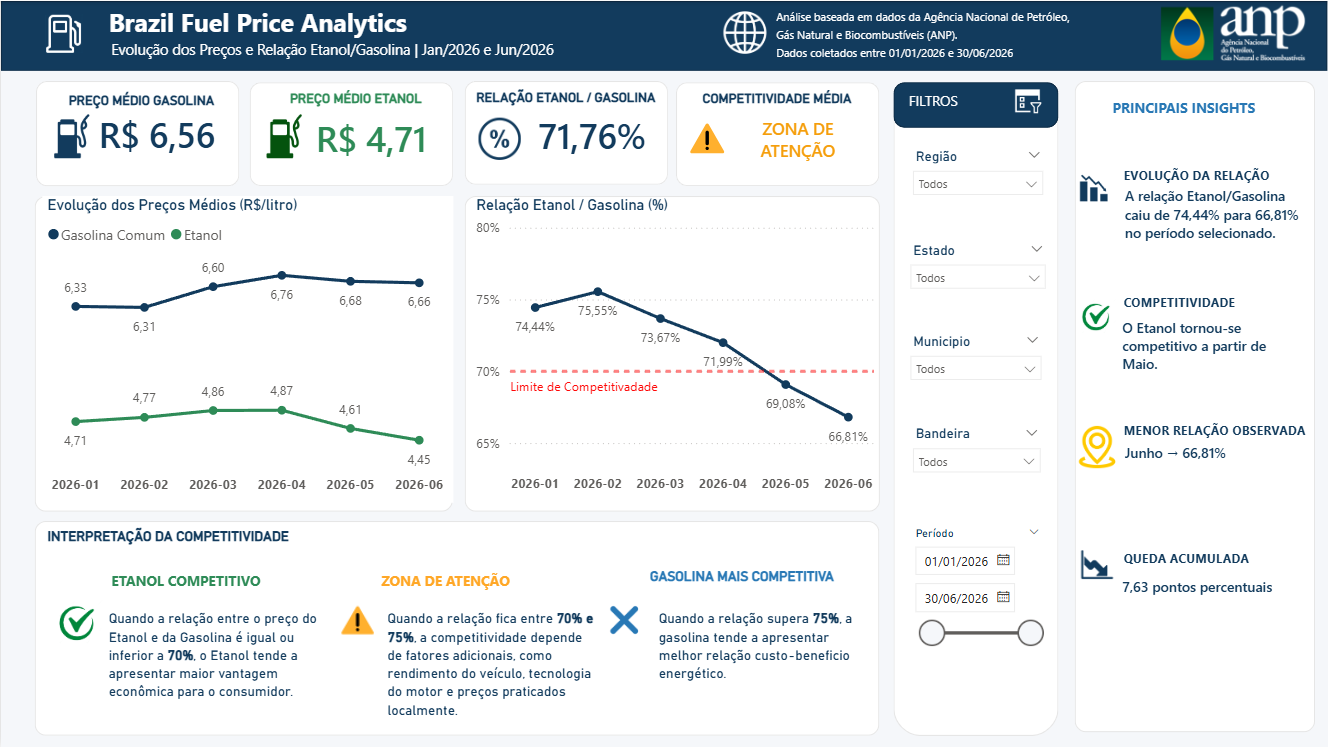

The dashboard page shown, as its layout file describes it:
{"tool":"powerbi","page":{"name":"Gasolina x Etanol","canvas":[1280,720],"ordinal":2},"visuals":[{"type":"shape","box":[0,0,1280,67.5],"z":0},{"type":"image","box":[12.2,13.5,96.6,36.7],"z":1000},{"type":"textbox","box":[98.8,0,413.8,61.2],"z":2000},{"type":"textbox","box":[101.2,32.5,455,35],"z":3000},{"type":"textbox","box":[743.8,0,310,70],"z":4000},{"type":"image","box":[1096.2,0,183.8,61.2],"z":5000},{"type":"image","box":[693.8,5,55,52.5],"z":6000},{"type":"shape","box":[861.8,81,159.2,628.5],"z":7000},{"type":"shape","box":[861.5,78.5,159.2,43.9],"z":8000},{"type":"textbox","box":[871.4,82.3,120.8,31.6],"z":9000},{"type":"image","box":[946.8,79.6,89.2,34.3],"z":10000},{"type":"slicer","fields":{"Values":["Fato Preços ANP.Região Nome"]},"box":[869.9,137.5,146,78.4],"z":11000},{"type":"slicer","fields":{"Values":["Fato Preços ANP.estado__sigla"]},"box":[867.2,227.8,150.9,89.2],"z":12000},{"type":"slicer","fields":{"Values":["Fato Preços ANP.municipio"]},"box":[867.2,315.6,146.8,89.2],"z":13000},{"type":"slicer","fields":{"Values":["Fato Preços ANP.bandeira"]},"box":[869.9,405.4,143.6,88.1],"z":14000},{"type":"slicer","fields":{"Values":["Calendario.Date"]},"box":[869.9,501.9,144.8,136.3],"z":15000},{"type":"shape","title":"Total de Revendas","box":[240.1,78.2,196.2,100.2],"z":16000},{"type":"cardVisual","title":"Preço Médio (Líquidos)","fields":{"Data":["Fato Preços ANP.Preço Médio Líquidos"]},"box":[66.2,77.5,167.5,105],"z":17000},{"type":"image","box":[35,105,43.4,50.7],"z":18000},{"type":"textbox","box":[68.6,85.1,161.9,38.4],"z":19000},{"type":"shape","title":"Total de Revendas","box":[34.3,76.8,196.2,101.5],"z":20000},{"type":"cardVisual","title":"Preço Médio (Líquidos)","fields":{"Data":["Fato Preços ANP.Preço Médio Gasolina"]},"box":[61.5,74.8,178.6,105],"z":21000},{"type":"cardVisual","title":"Preço Médio (Líquidos)","fields":{"Data":["Fato Preços ANP.Preço Médio Etanol"]},"box":[265.4,80.8,182.2,98.9],"z":22000},{"type":"textbox","box":[274.4,79.6,161.9,38.4],"z":23000},{"type":"textbox","box":[60.4,81,161.9,38.4],"z":24000},{"type":"shape","title":"Total de Revendas","box":[447,76.8,196.2,100.2],"z":25000},{"type":"shape","title":"Total de Revendas","box":[651.8,78.2,196.2,100.2],"z":26000},{"type":"shape","title":"Total de Revendas","box":[1036,76.8,231.9,628.5],"z":27000},{"type":"shape","title":"Total de Revendas","box":[32.9,188,403.4,304.6],"z":28000},{"type":"shape","title":"Total de Revendas","box":[447.3,188,400.7,304.6],"z":29000},{"type":"shape","title":"Total de Revendas","box":[32.9,502.2,815.1,207.2],"z":30000},{"type":"image","box":[252.5,105.7,42.5,49.4],"z":31000},{"type":"image","box":[46.7,105.7,42.5,49.4],"z":32000},{"type":"image","box":[461.1,111.1,41.2,43.9],"z":33000},{"type":"textbox","box":[1067.7,89.3,168.9,27.7],"z":34000},{"type":"textbox","box":[454.2,78.2,194.9,38.4],"z":35000},{"type":"textbox","box":[672.4,79.6,194.9,38.4],"z":36000},{"type":"textbox","box":[39.8,501.9,255.8,38.6],"z":37000},{"type":"cardVisual","title":"Preço Médio (Líquidos)","fields":{"Data":["Fato Preços ANP.Relação Etanol Gasolina %"]},"box":[481.6,75.5,178.4,104.3],"z":38000},{"type":"cardVisual","title":"Preço Médio (Líquidos)","fields":{"Data":["Fato Preços ANP.Competitividade Etanol"]},"box":[677.9,63.1,182.5,140],"z":39000},{"type":"lineChart","title":"Evolução dos Preços Médios (R$/litro)","fields":{"Y":["Fato Preços ANP.Preço Médio Gasolina","Fato Preços ANP.Preço Médio Etanol"],"Category":["Calendario.AnoMes"]},"box":[39.8,188,396.6,296.4],"z":40000},{"type":"lineChart","title":"Relação Etanol / Gasolina (%)","fields":{"Category":["Calendario.AnoMes"],"Y":["Fato Preços ANP.Relação Etanol Gasolina %"]},"box":[454.2,188,396.6,296.4],"z":41000},{"type":"cardVisual","title":"Preço Médio (Líquidos)","fields":{"Data":["Fato Preços ANP.Ícone Competitividade"]},"box":[629.8,85.1,102.9,85.1],"z":42000},{"type":"image","box":[1037.4,145.5,34.3,70],"z":43000},{"type":"image","box":[1036,270.3,41.2,70],"z":44000},{"type":"image","box":[1037.4,395.2,41.2,70],"z":45000},{"type":"image","box":[1037.4,509.1,41.2,70],"z":46000},{"type":"textbox","box":[1078.6,153.7,201.7,502.2],"z":47000},{"type":"cardVisual","fields":{"Data":["Fato Preços ANP.Insight Evolução Relação"]},"box":[1067.6,130.4,209.9,149.6],"z":48000},{"type":"cardVisual","fields":{"Data":["Fato Preços ANP.Insight Competitividade"]},"box":[1064.8,256.6,177,148.2],"z":49000},{"type":"cardVisual","fields":{"Data":["Fato Preços ANP.Insight Menor Relação"]},"box":[1067.6,360.9,177,148.2],"z":50000},{"type":"cardVisual","fields":{"Data":["Fato Preços ANP.Insight Queda Acumulada"]},"box":[1064.8,521.4,190.7,85.1],"z":51000},{"type":"image","box":[46.7,564,52.1,74.1],"z":52000},{"type":"image","box":[581.8,566.7,39.8,60.4],"z":53000},{"type":"image","box":[322.5,564,43.9,67.2],"z":54000},{"type":"textbox","box":[101.5,544.8,168.8,28.8],"z":55000},{"type":"textbox","box":[362.3,544.8,168.8,28.8],"z":56000},{"type":"textbox","box":[621.6,540.7,256.6,38.4],"z":57000},{"type":"textbox","box":[98.8,581.8,223.7,100.2],"z":57001},{"type":"textbox","box":[367.8,581.8,212.7,123.5],"z":57002},{"type":"textbox","box":[629.8,581.8,212.7,123.5],"z":57003}]}

Visuals, with their boxes in screenshot pixels (x1, y1, x2, y2), scaled from the page's 1280x720 canvas onto the 1328x747 screenshot:
shape: 0, 0, 1327, 70
image: 13, 14, 113, 52
textbox: 103, 0, 532, 63
textbox: 105, 34, 577, 70
textbox: 772, 0, 1093, 73
image: 1137, 0, 1327, 63
image: 720, 5, 777, 60
shape: 894, 84, 1059, 736
shape: 894, 81, 1059, 127
textbox: 904, 85, 1029, 118
image: 982, 83, 1075, 118
slicer - Fato Preços ANP.Região Nome: 903, 143, 1054, 224
slicer - Fato Preços ANP.estado__sigla: 900, 236, 1056, 329
slicer - Fato Preços ANP.municipio: 900, 327, 1052, 420
slicer - Fato Preços ANP.bandeira: 903, 421, 1052, 512
slicer - Calendario.Date: 903, 521, 1053, 662
"Total de Revendas" shape: 249, 81, 453, 185
"Preço Médio (Líquidos)" cardVisual: 69, 80, 242, 189
image: 36, 109, 81, 162
textbox: 71, 88, 239, 128
"Total de Revendas" shape: 36, 80, 239, 185
"Preço Médio (Líquidos)" cardVisual: 64, 78, 249, 187
"Preço Médio (Líquidos)" cardVisual: 275, 84, 464, 186
textbox: 285, 83, 453, 122
textbox: 63, 84, 231, 124
"Total de Revendas" shape: 464, 80, 667, 184
"Total de Revendas" shape: 676, 81, 880, 185
"Total de Revendas" shape: 1075, 80, 1315, 732
"Total de Revendas" shape: 34, 195, 453, 511
"Total de Revendas" shape: 464, 195, 880, 511
"Total de Revendas" shape: 34, 521, 880, 736
image: 262, 110, 306, 161
image: 48, 110, 93, 161
image: 478, 115, 521, 161
textbox: 1108, 93, 1283, 121
textbox: 471, 81, 673, 121
textbox: 698, 83, 900, 122
textbox: 41, 521, 307, 561
"Preço Médio (Líquidos)" cardVisual: 500, 78, 685, 187
"Preço Médio (Líquidos)" cardVisual: 703, 65, 893, 211
"Evolução dos Preços Médios (R$/litro)" lineChart: 41, 195, 453, 503
"Relação Etanol / Gasolina (%)" lineChart: 471, 195, 883, 503
"Preço Médio (Líquidos)" cardVisual: 653, 88, 760, 177
image: 1076, 151, 1112, 224
image: 1075, 280, 1118, 353
image: 1076, 410, 1119, 483
image: 1076, 528, 1119, 601
textbox: 1119, 159, 1327, 680
cardVisual - Fato Preços ANP.Insight Evolução Relação: 1108, 135, 1325, 290
cardVisual - Fato Preços ANP.Insight Competitividade: 1105, 266, 1288, 420
cardVisual - Fato Preços ANP.Insight Menor Relação: 1108, 374, 1291, 528
cardVisual - Fato Preços ANP.Insight Queda Acumulada: 1105, 541, 1303, 629
image: 48, 585, 103, 662
image: 604, 588, 645, 651
image: 335, 585, 380, 655
textbox: 105, 565, 280, 595
textbox: 376, 565, 551, 595
textbox: 645, 561, 911, 601
textbox: 103, 604, 335, 708
textbox: 382, 604, 602, 732
textbox: 653, 604, 874, 732
